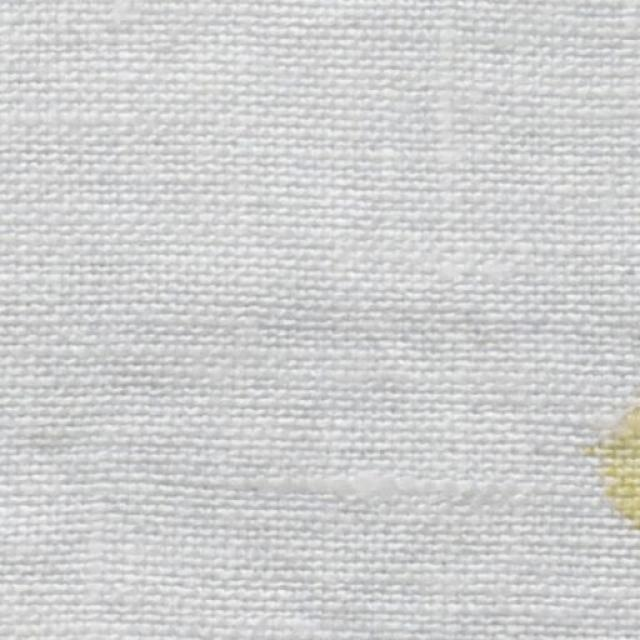Stain: (595, 388, 639, 551)
